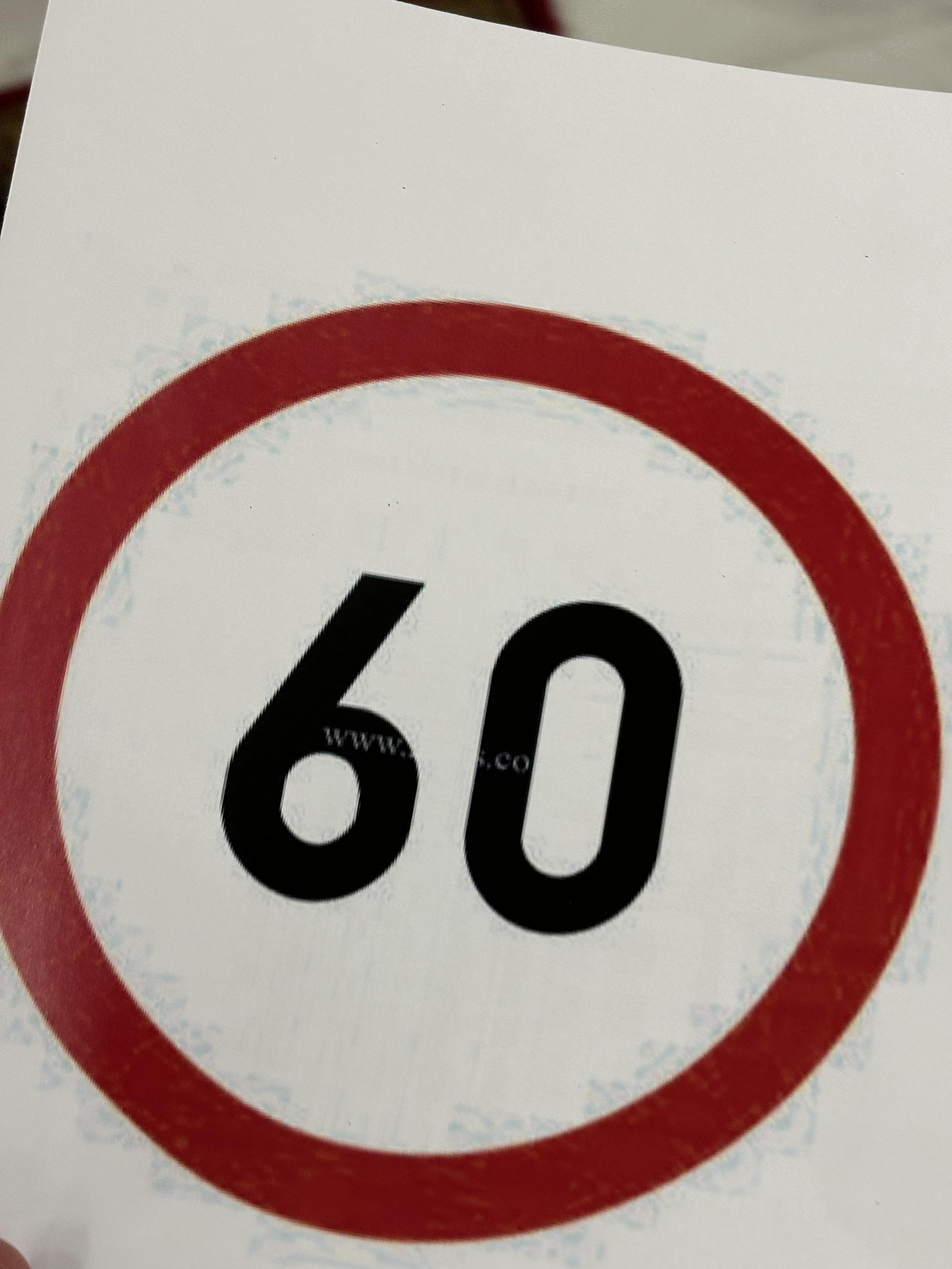60-Speed: (0, 281, 952, 1233)
